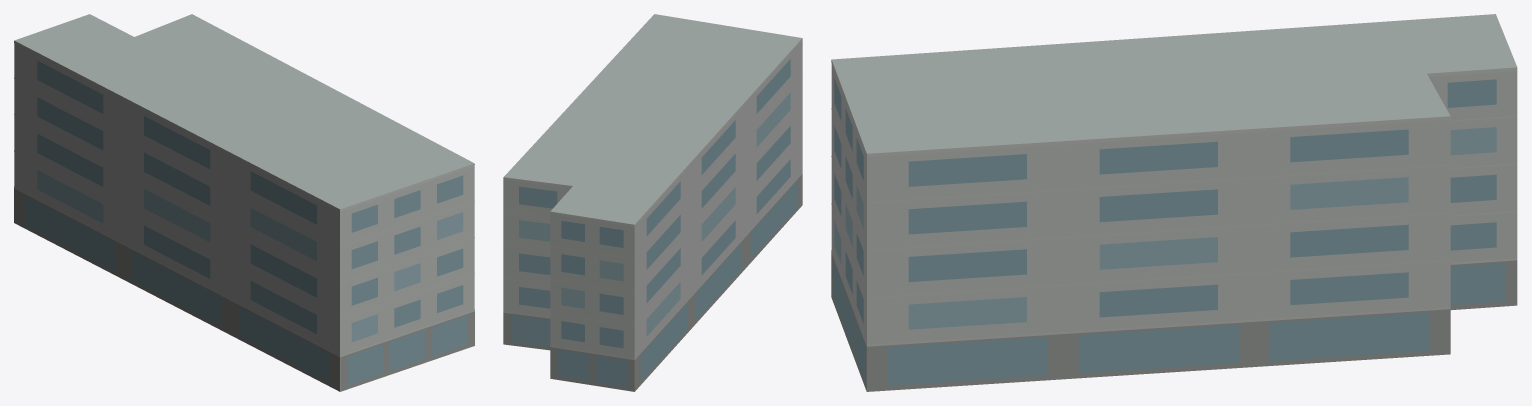
The model's file is survey-upis-32945346.glb.
3 views of the same model, side by side, from view 1: azimuth 30°, elevation 25°; view 2: azimuth 150°, elevation 25°; view 3: azimuth 270°, elevation 25° (orthographic). The views are drawn at different scales.
Visible parts, largest first — view 1: survey-upis-32945346.tmp; view 2: survey-upis-32945346.tmp; view 3: survey-upis-32945346.tmp.
Part boxes in pixels (<box>): survey-upis-32945346.tmp: <box>14,14,474,391</box>; survey-upis-32945346.tmp: <box>503,14,802,391</box>; survey-upis-32945346.tmp: <box>831,14,1517,391</box>.
Bounding box in the file's own units: 20.42 × 16.2 × 42.31.
